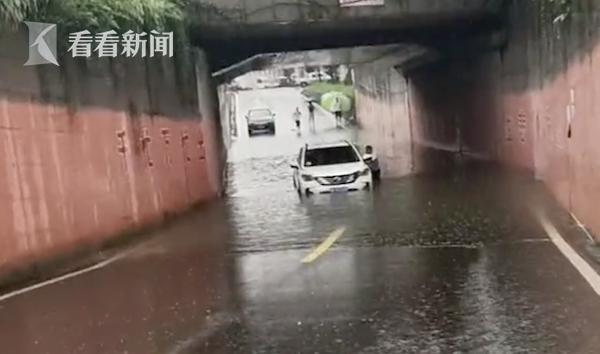roadside_plant: (11, 4, 186, 34)
tunnel_entrance: (190, 6, 507, 203)
